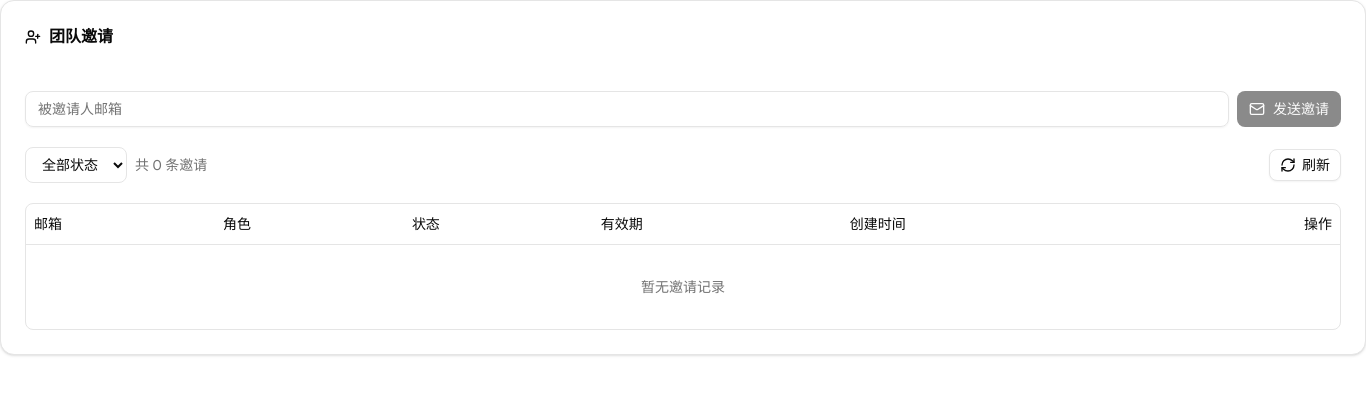
Scenario: InvitationsManager - 创建邀请 › 合法邮箱提交 → POST {email, role:'member'} 带 Bearer token，成功后刷新列表
Expected: the text "暂无邀请记录" is shown, [26,244,1340,328]
Type "bob@example.com" into the field with placeholder "被邀请人邮箱". click: (627, 109)
box: [25,91,1229,127]
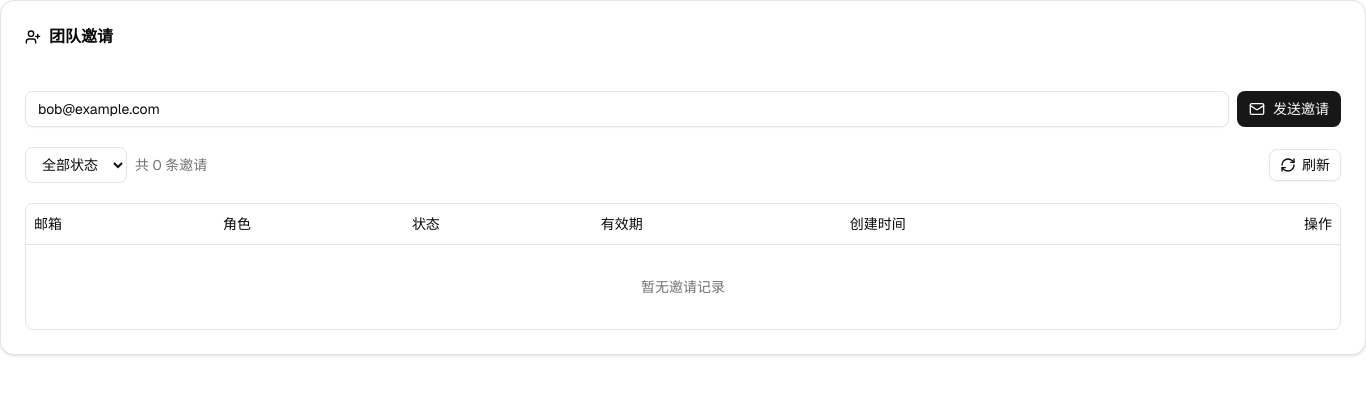
Click the button "发送邀请". click: (1289, 109)
box: [1237,91,1341,127]
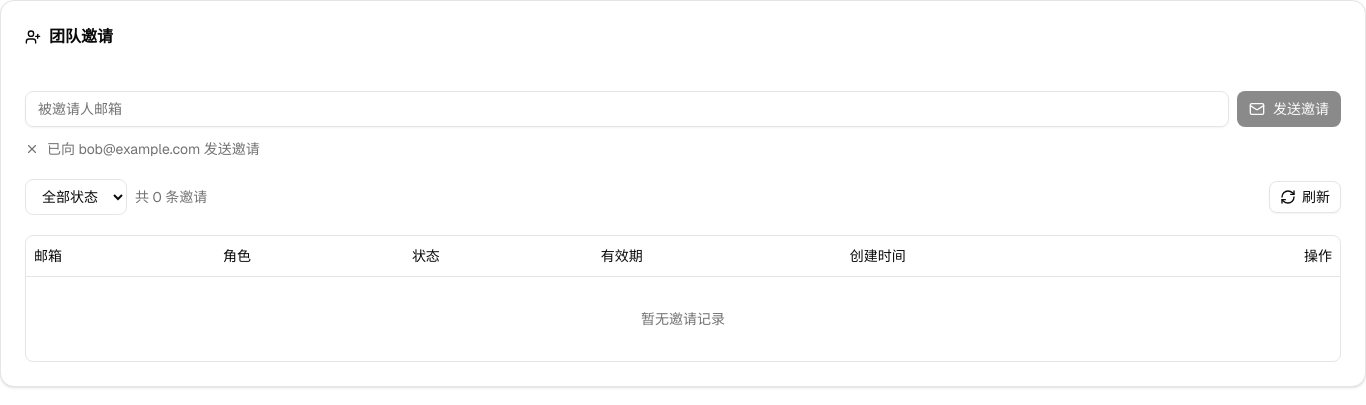
Expected: the text "已向 bob@example.com 发送邀请" is shown, [25,140,260,158]
